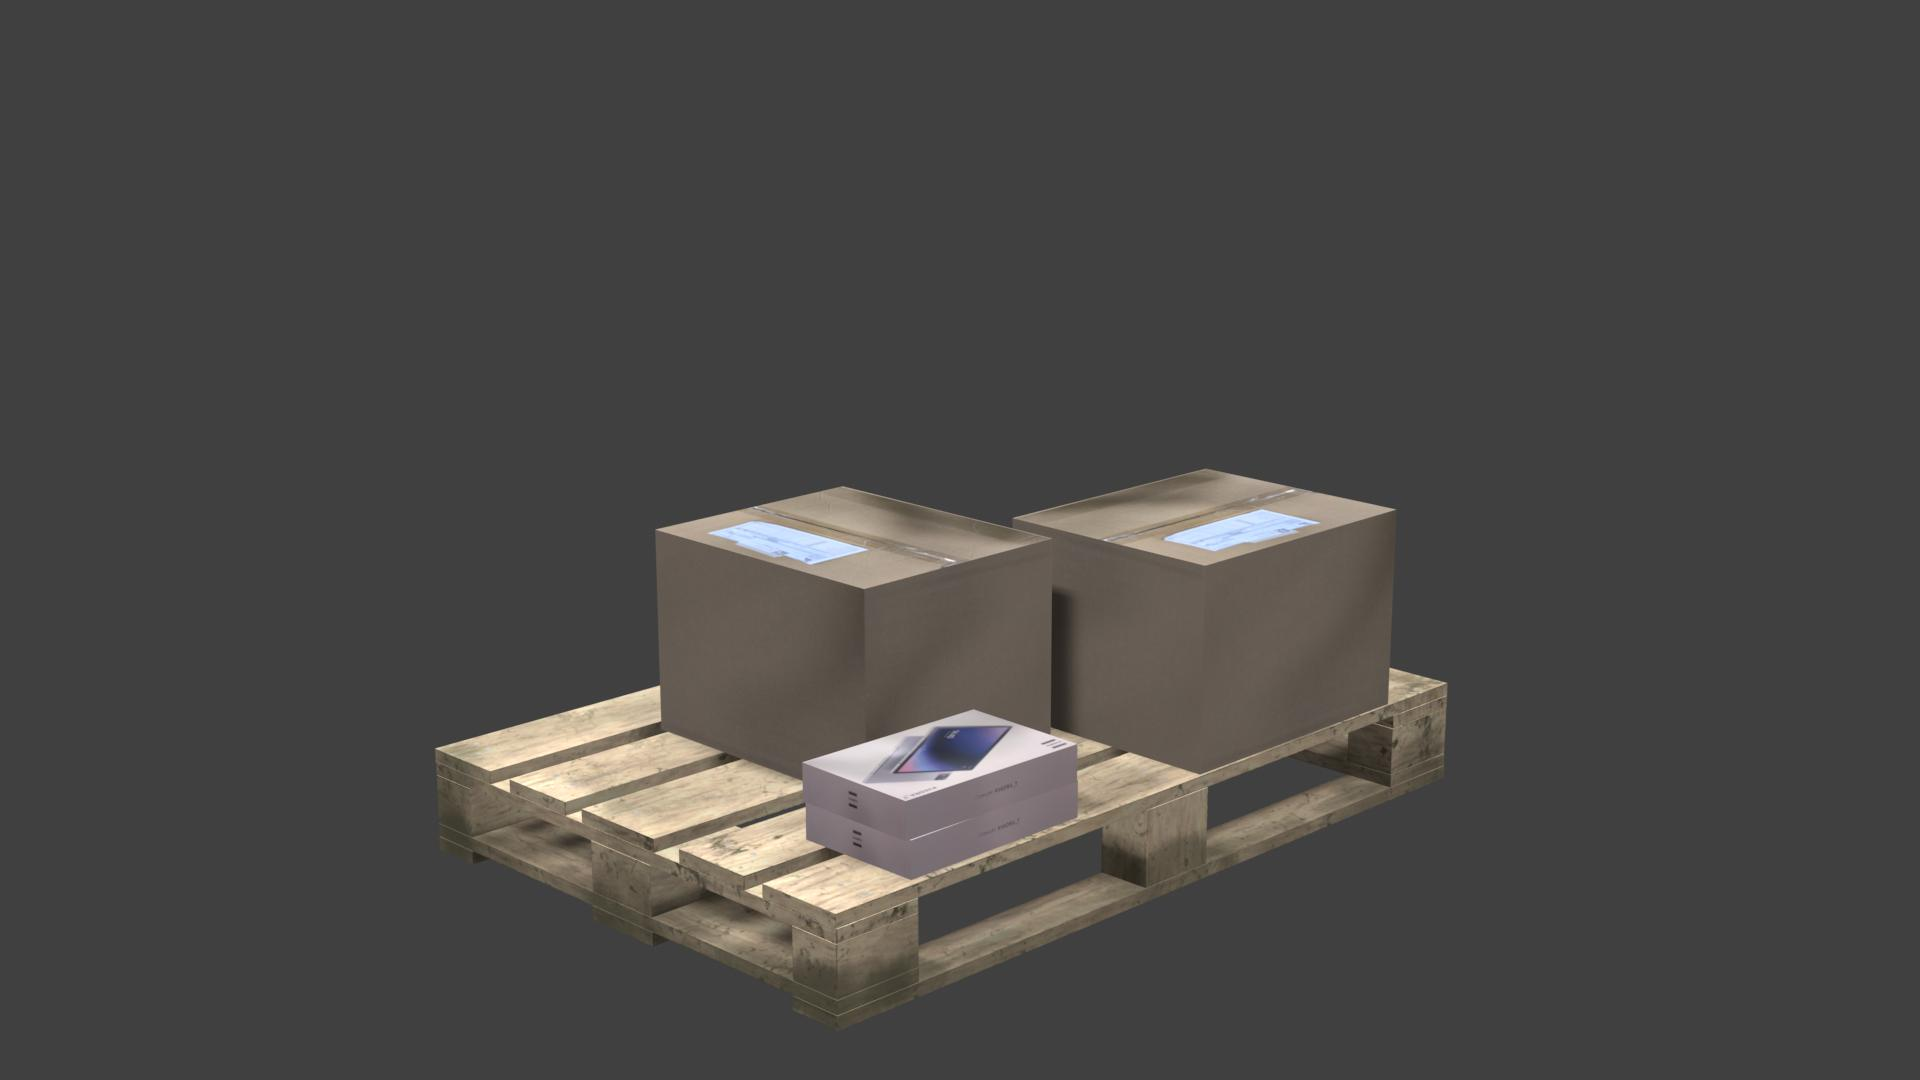group_box_left: (1014, 510, 1395, 775), (655, 530, 1052, 781)
group_box_top: (657, 485, 1048, 589), (1015, 468, 1395, 567)
palet: (435, 667, 1449, 1034)
tablet_left: (806, 783, 1080, 878), (806, 746, 1077, 839)
tablet_top: (806, 711, 1072, 802)
